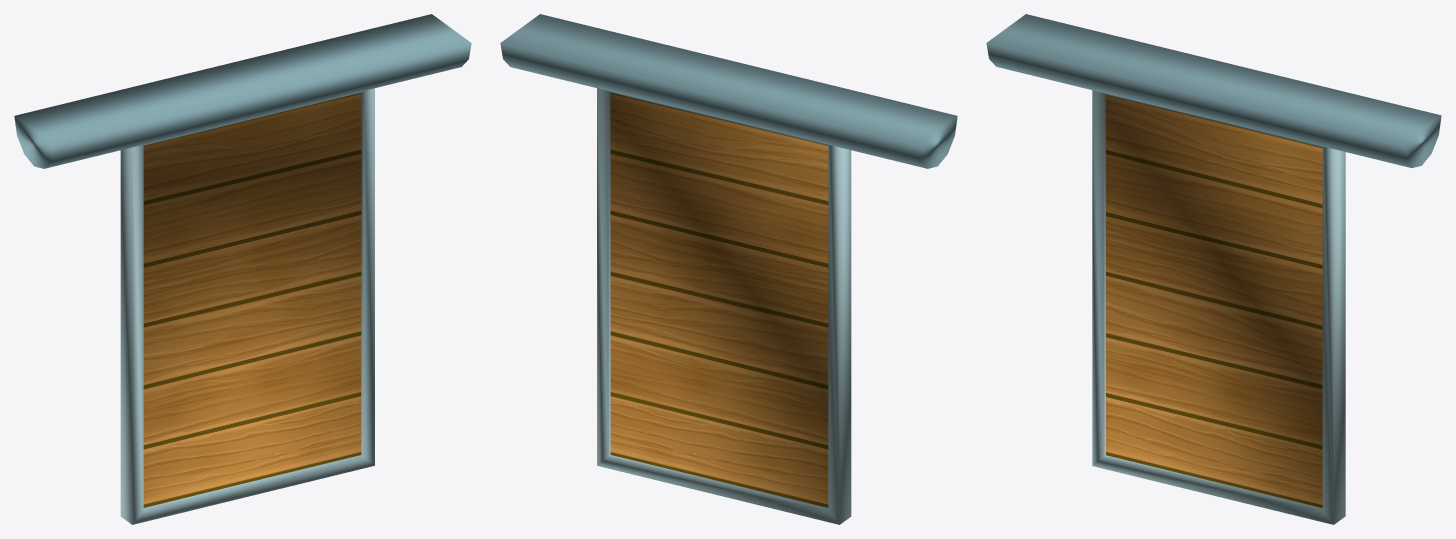
Rendered from ClapDoor.fbx.
The picture shows the model from 3 angles, left to right: view 1: azimuth 30°, elevation 25°; view 2: azimuth 150°, elevation 25°; view 3: azimuth 330°, elevation 25°; orthographic projection.
Visible parts, largest first — view 1: ClapDoor, ClapDoorBase; view 2: ClapDoor, ClapDoorBase; view 3: ClapDoor, ClapDoorBase.
Part boxes in pixels (<box>): ClapDoor: <box>120,88,374,524</box>; ClapDoorBase: <box>14,14,471,168</box>; ClapDoor: <box>597,88,851,524</box>; ClapDoorBase: <box>500,14,957,168</box>; ClapDoor: <box>1092,90,1345,524</box>; ClapDoorBase: <box>986,14,1441,167</box>.
Size of the model in its own units: 17.99 by 2.97 by 16.99.
